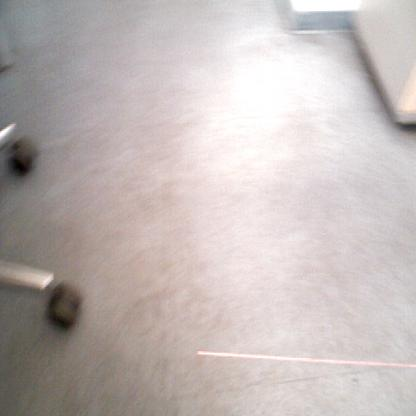mark: (352, 376, 358, 384)
